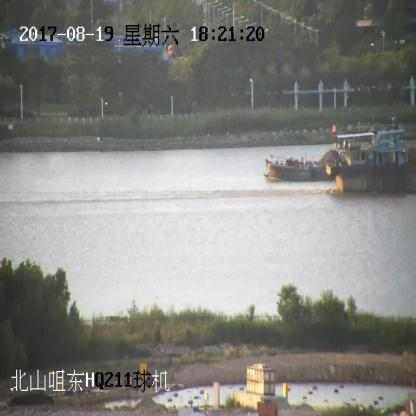Bulk Carrier: (332, 136, 416, 192)
